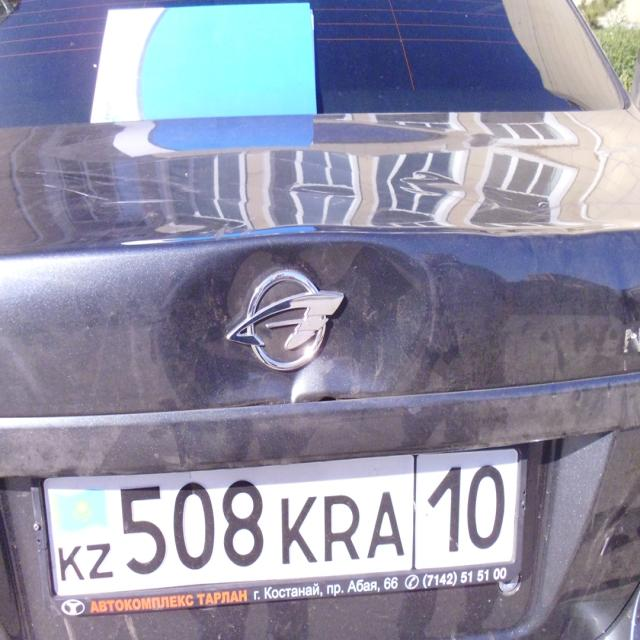Cabossage: (152, 246, 441, 411)
Rayure: (37, 161, 196, 210), (590, 516, 615, 581)
